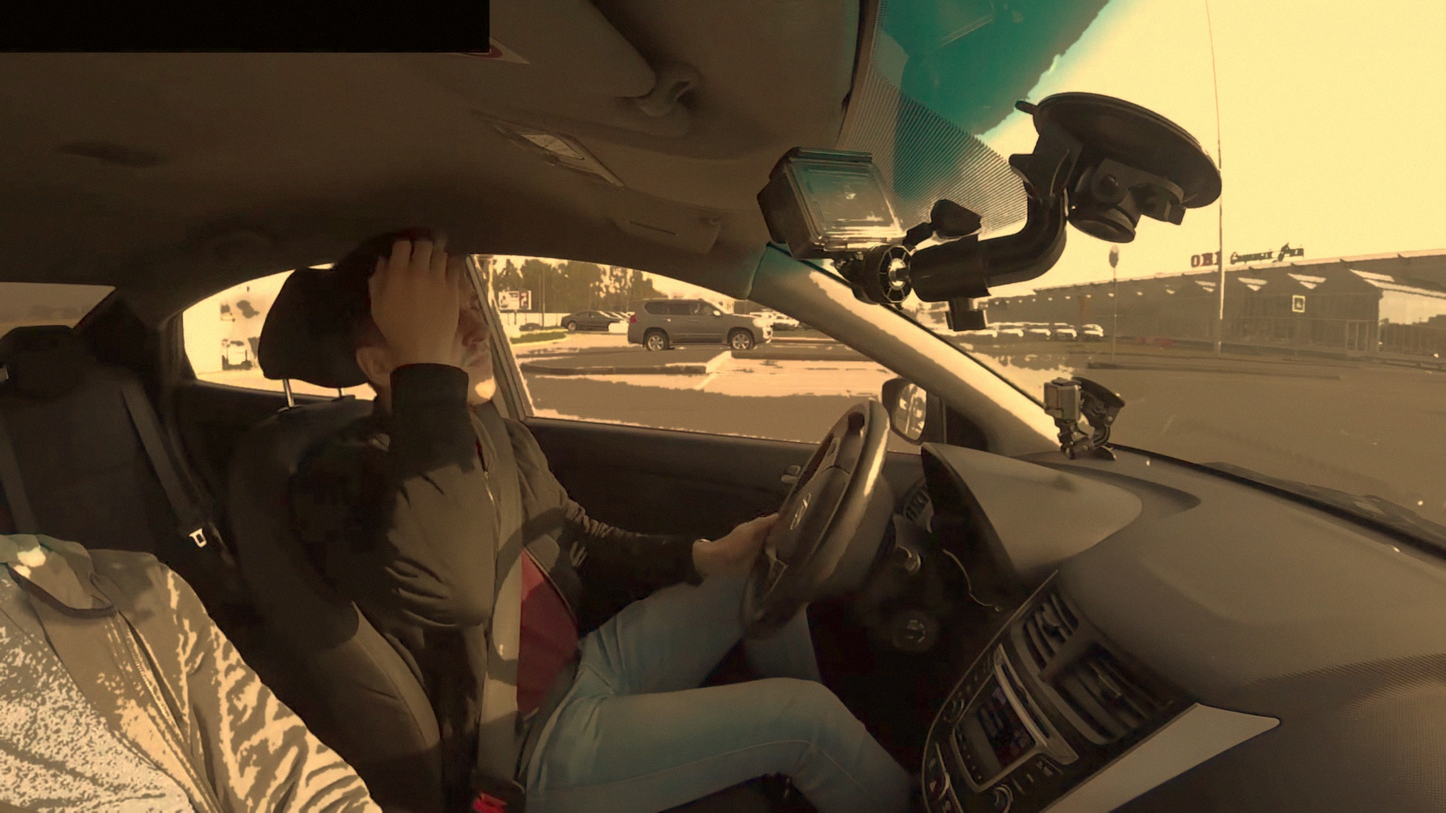pedestrian: (352, 354, 512, 776)
